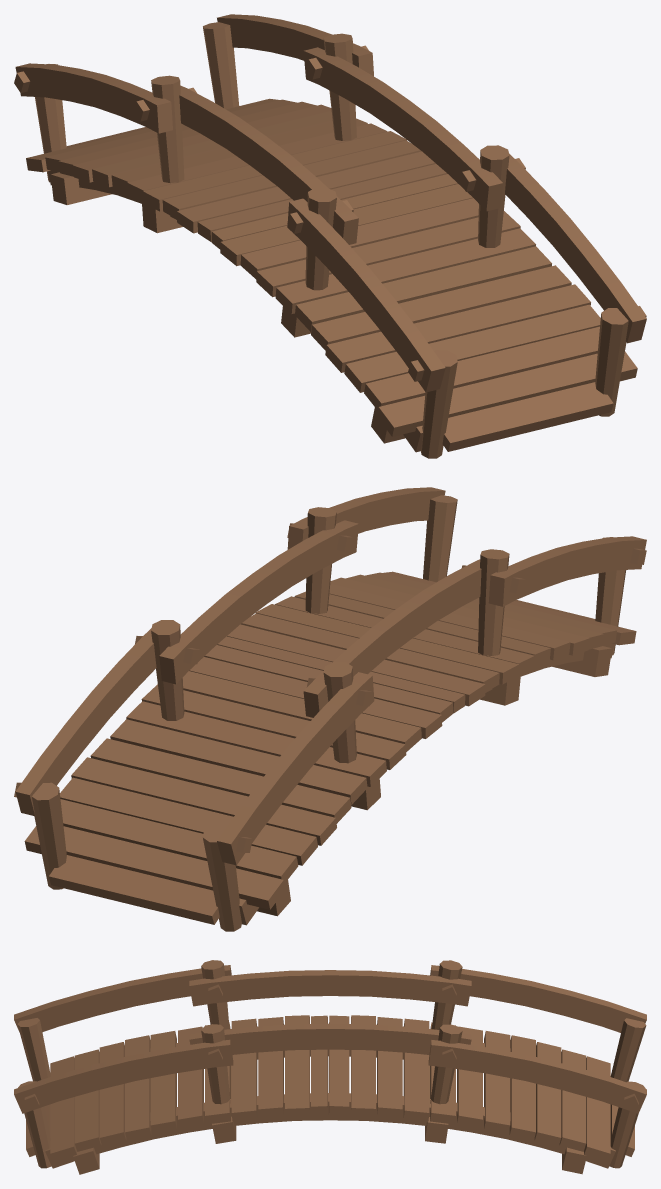
The model's file is bridge.glb.
3 views of the same model, one above another, from view 1: azimuth 30°, elevation 25°; view 2: azimuth 150°, elevation 25°; view 3: azimuth 270°, elevation 25° (orthographic). The views are drawn at different scales.
Parts seen in each view (by area): view 1: pCube40, pCube19, pCube20, pCube39, pCube27, pCube38, pCube30, pCube31, pCube29, pCube32, pCube28, pCube33 (+26 smaller); view 2: pCube40, pCube19, pCube20, pCube39, pCube53, pCube51, pCube43, pCube42, pCube44, pCube45, pCube52, pCube46 (+26 smaller); view 3: pCube19, pCube40, pCube39, pCube20, pCube59, pCube34, pCube47, pCube30, pCube43, pCube31, pCube44, pCube35 (+28 smaller).
Boxes of the visible parts, bbox=[...] form: pCube40: bbox=[15, 63, 445, 392]; pCube19: bbox=[217, 14, 646, 343]; pCube20: bbox=[303, 47, 502, 211]; pCube39: bbox=[179, 85, 358, 244]; pCube27: bbox=[377, 351, 637, 436]; pCube38: bbox=[442, 382, 613, 451]; pCube30: bbox=[325, 284, 590, 372]; pCube31: bbox=[311, 265, 571, 350]; pCube29: bbox=[344, 304, 600, 392]; pCube32: bbox=[295, 246, 551, 331]; pCube28: bbox=[364, 326, 599, 410]; pCube33: bbox=[275, 228, 535, 313]; pCube40: bbox=[217, 536, 646, 865]; pCube19: bbox=[15, 487, 445, 816]; pCube20: bbox=[159, 520, 358, 684]; pCube39: bbox=[303, 559, 481, 717]; pCube53: bbox=[24, 826, 285, 909]; pCube51: bbox=[49, 855, 219, 924]; pCube43: bbox=[71, 757, 336, 845]; pCube42: bbox=[60, 777, 317, 865]; pCube44: bbox=[90, 738, 351, 823]; pCube45: bbox=[110, 719, 367, 804]; pCube52: bbox=[60, 799, 298, 883]; pCube46: bbox=[126, 701, 386, 786]; pCube19: bbox=[14, 1039, 646, 1113]; pCube40: bbox=[14, 965, 646, 1032]; pCube39: bbox=[189, 970, 471, 1006]; pCube20: bbox=[189, 1023, 471, 1054]; pCube59: bbox=[45, 1093, 615, 1168]; pCube34: bbox=[403, 1018, 429, 1121]; pCube47: bbox=[231, 1018, 257, 1121]; pCube30: bbox=[125, 1035, 151, 1140]; pCube43: bbox=[509, 1035, 535, 1140]; pCube31: bbox=[150, 1031, 176, 1133]; pCube44: bbox=[484, 1031, 510, 1133]; pCube35: bbox=[377, 1017, 402, 1117].
Bounding box in the file's own units: 1.76 × 1.22 × 5.06.
